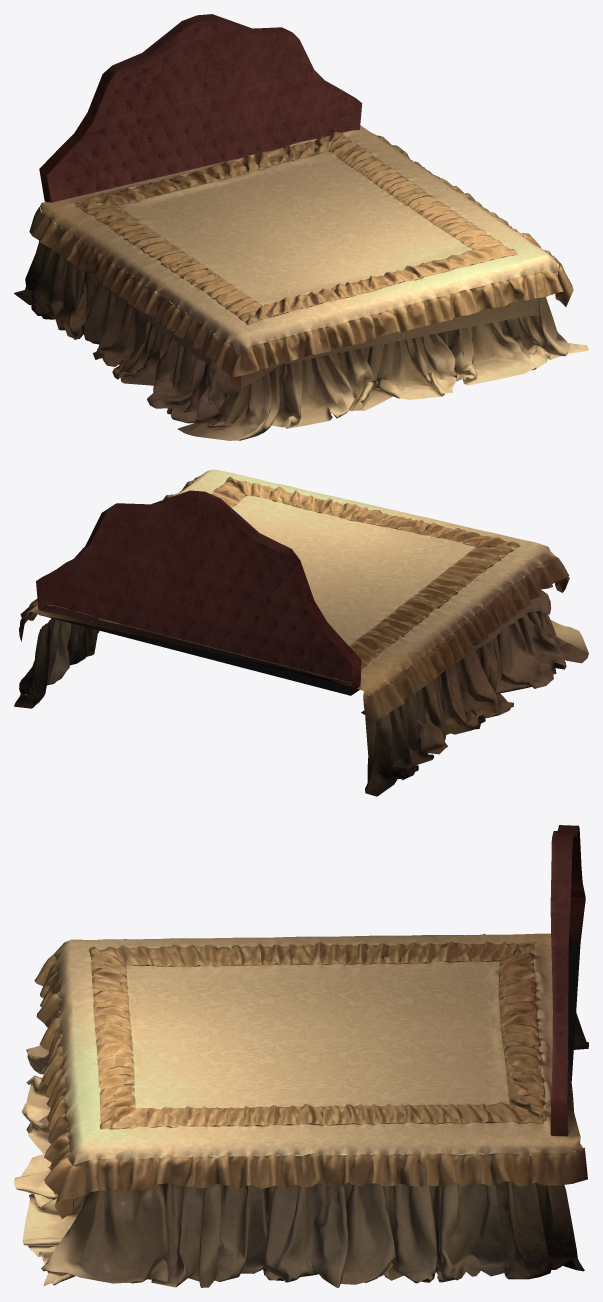
File: bed.obj
The picture shows the model from 3 angles, top to bottom: view 1: azimuth 30°, elevation 25°; view 2: azimuth 150°, elevation 25°; view 3: azimuth 270°, elevation 25°; orthographic projection. The views are drawn at different scales.
Parts seen in each view (by area): view 1: bedBaked BedroomBakedTriExport; view 2: bedBaked BedroomBakedTriExport; view 3: bedBaked BedroomBakedTriExport.
Boxes of the visible parts, left/top/right/bottom form: bedBaked BedroomBakedTriExport: left=14, top=14, right=588, bottom=440; bedBaked BedroomBakedTriExport: left=14, top=469, right=588, bottom=796; bedBaked BedroomBakedTriExport: left=14, top=825, right=588, bottom=1287.
Size of the model in its own units: 3.4 by 1.98 by 3.21.
